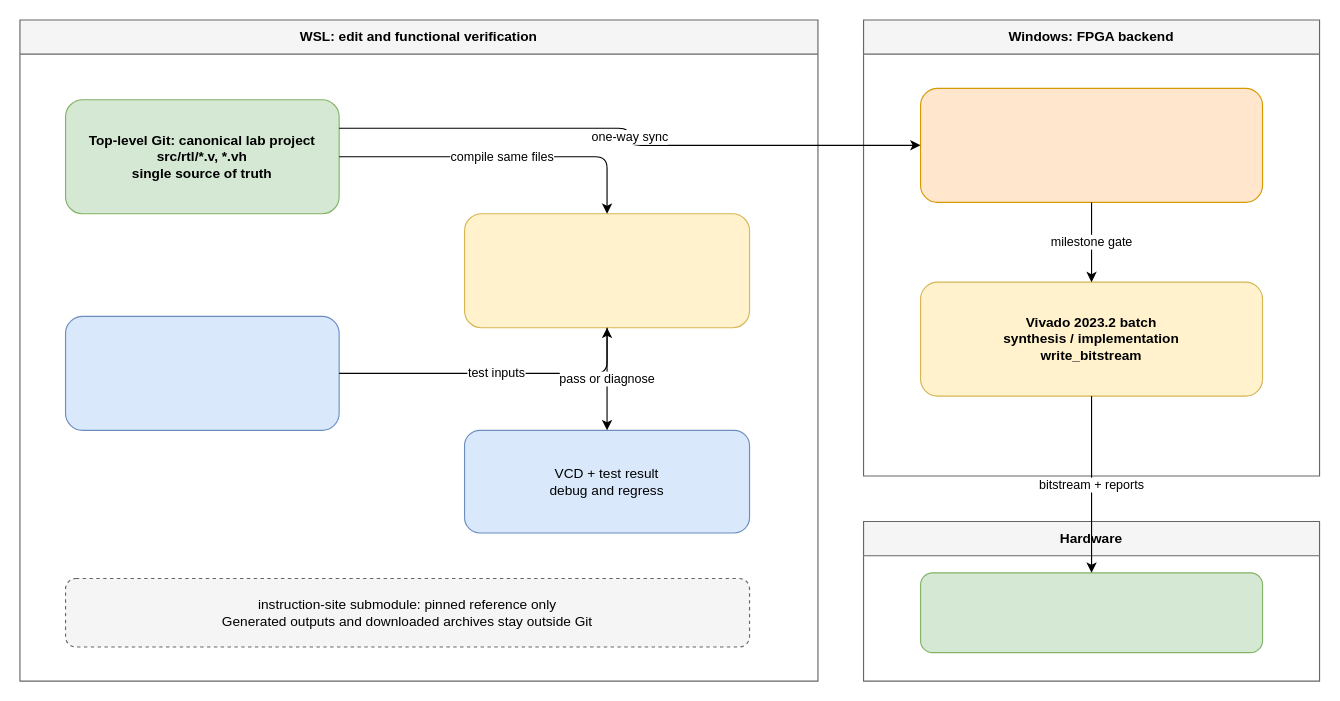
The diagram is 1340 pixels wide and 701 high, and some of its shapes have lost their labels. The centre of each missing label's shape, as x and y in pixels:
cdp-tests submodule golden model + driver simulation RAM: pixel 201 372
EGO1 program + board smoke test: pixel 1091 612
Generated Windows staging RTL + .xpr + IP + XDC + COE never edit here: pixel 1091 144
Verilator Trace gate single test / full suite: pixel 606 270
